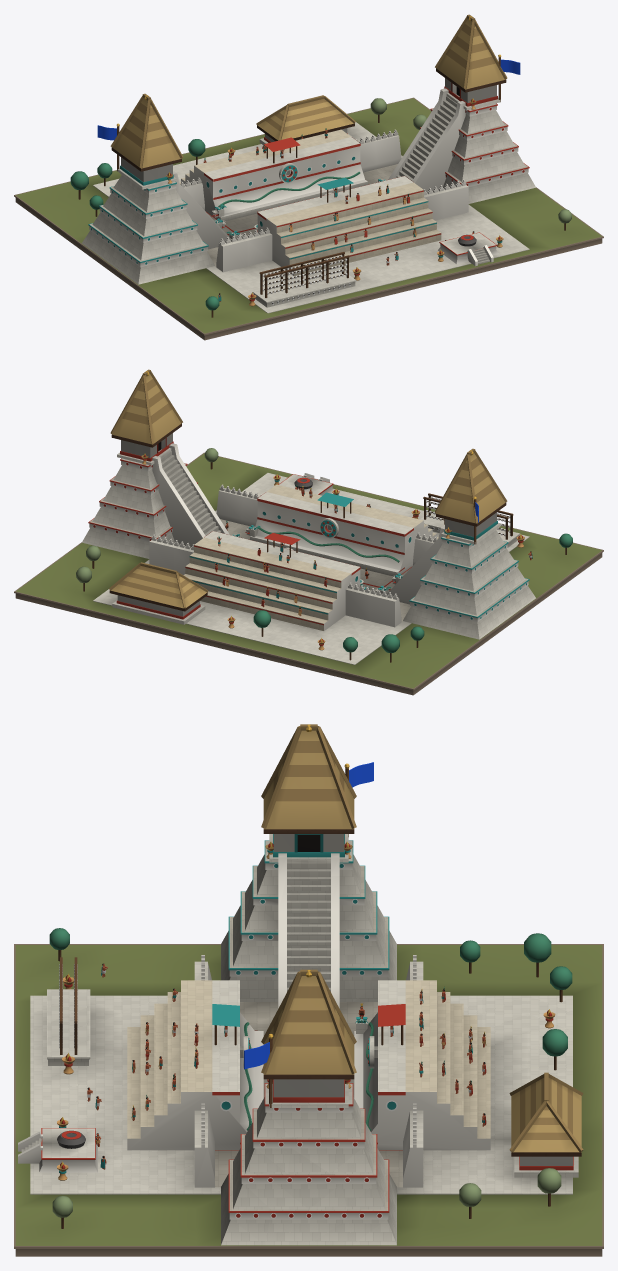
Rendered from lm_topsahasi.glb.
The picture shows the model from 3 angles, top to bottom: view 1: azimuth 30°, elevation 25°; view 2: azimuth 150°, elevation 25°; view 3: azimuth 270°, elevation 25°; orthographic projection. The views are drawn at different scales.
Parts seen in each view (by area): view 1: lm_topsahasi; view 2: lm_topsahasi; view 3: lm_topsahasi.
Boxes of the visible parts, x1,y1,x2,y2 form: lm_topsahasi: [14, 14, 603, 340]; lm_topsahasi: [14, 369, 603, 695]; lm_topsahasi: [14, 724, 603, 1256].
Bounding box in the file's own units: 2.44 × 0.974 × 2.01.
Materials: 1 (1 with a texture image).
